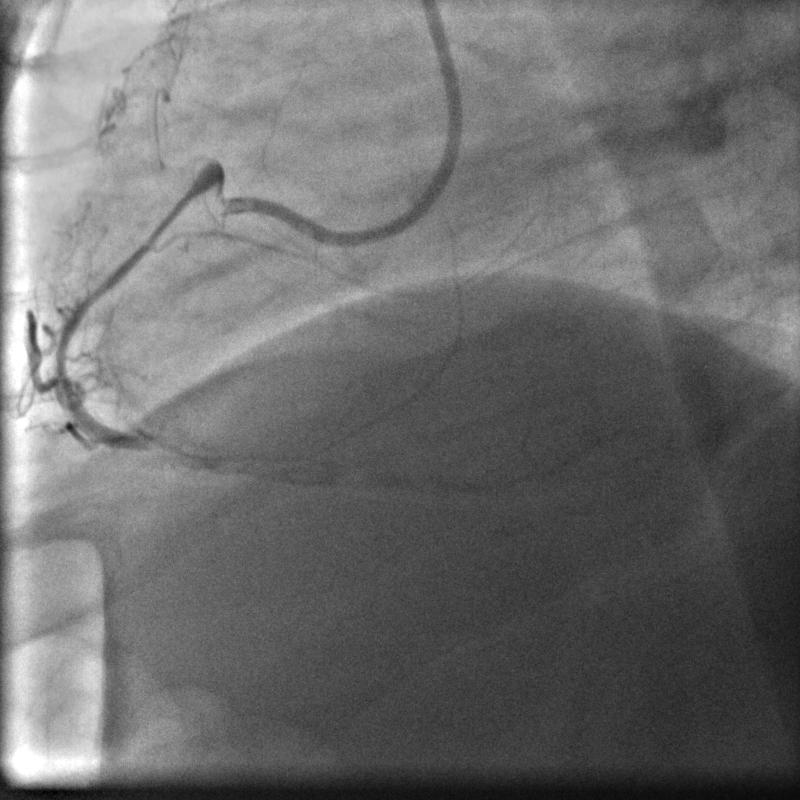Stenosis: (118, 423, 183, 457)
